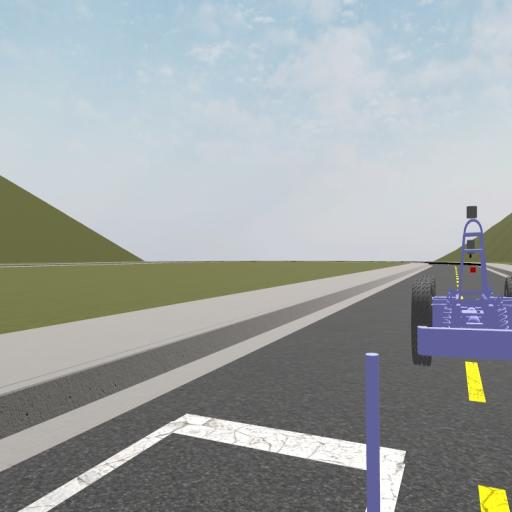ERP-42: (410, 206, 510, 370)
